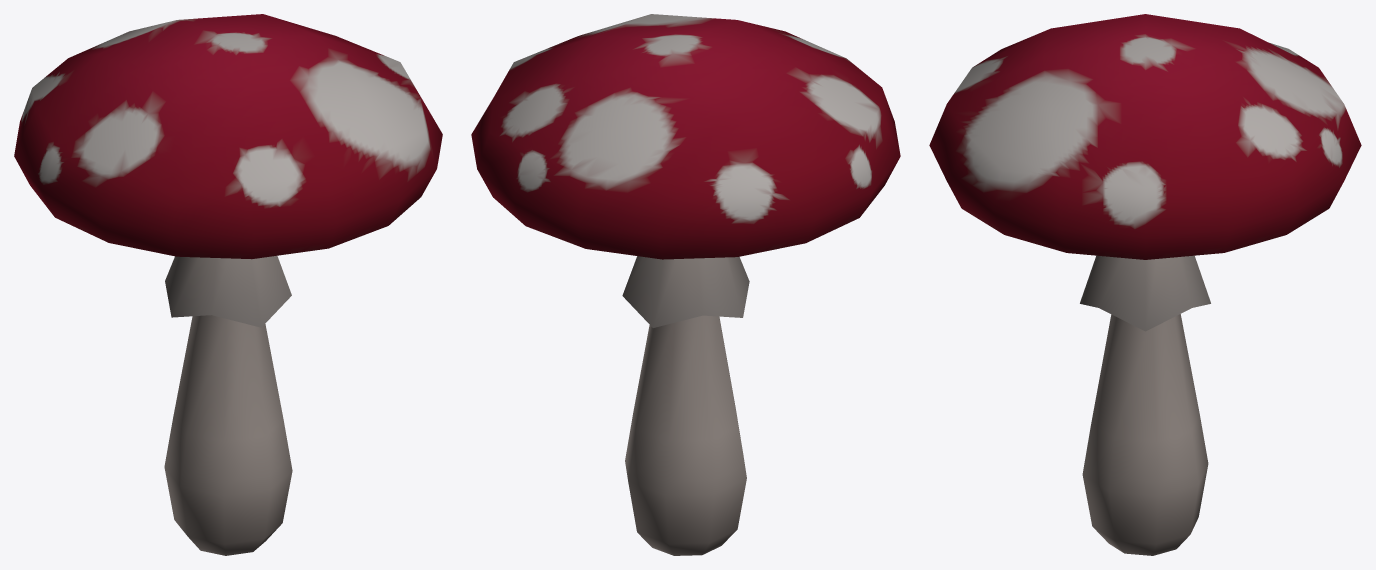
Rendered from prototype.glb.
3 views of the same model, side by side, from view 1: azimuth 30°, elevation 25°; view 2: azimuth 150°, elevation 25°; view 3: azimuth 270°, elevation 25° (orthographic).
Visible parts, largest first — view 1: Fly_Agaric_Basic_baked; view 2: Fly_Agaric_Basic_baked; view 3: Fly_Agaric_Basic_baked.
Boxes of the visible parts, x1,y1,x2,y2 form: Fly_Agaric_Basic_baked: (14,14,442,555); Fly_Agaric_Basic_baked: (471,14,900,555); Fly_Agaric_Basic_baked: (929,14,1361,555).
Bounding box in the file's own units: 0.7831 × 1 × 0.7831.
